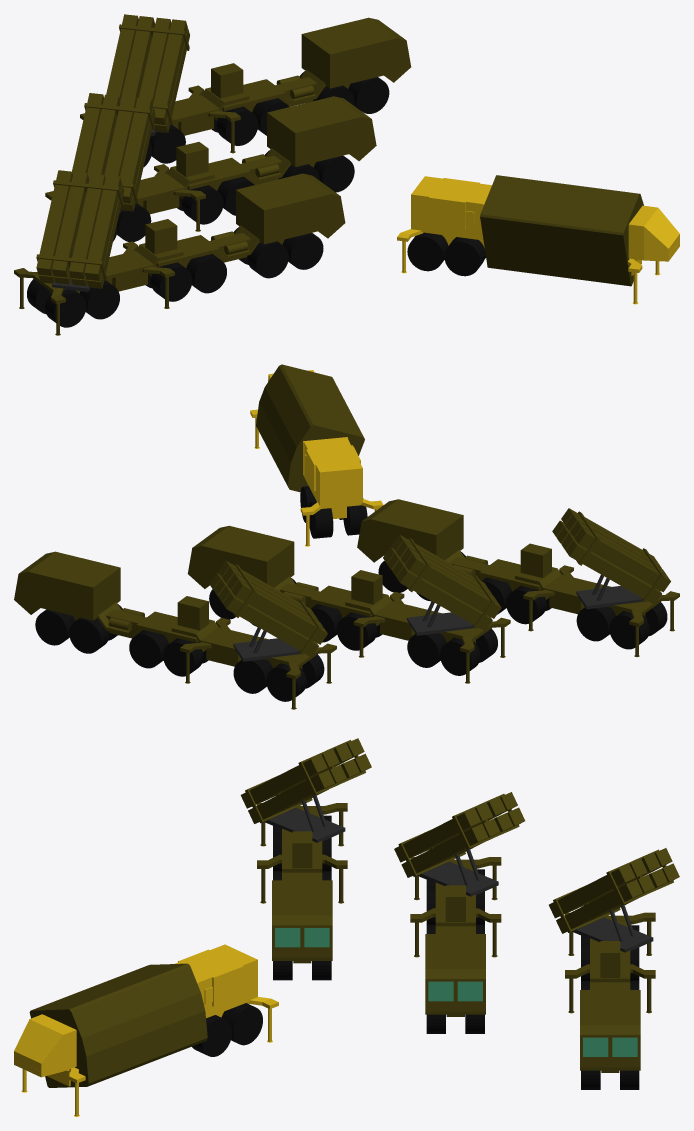
The model's file is Building_THAAD.obj.
3 views of the same model, one above another, from view 1: azimuth 30°, elevation 25°; view 2: azimuth 150°, elevation 25°; view 3: azimuth 270°, elevation 25° (orthographic). The views are drawn at different scales.
Visible parts, largest first — view 1: THAAD; view 2: THAAD; view 3: THAAD.
Part boxes in pixels (x1,y1,x2,y2): THAAD: [14, 14, 679, 335]; THAAD: [14, 364, 679, 709]; THAAD: [14, 738, 679, 1116].
Bounding box in the file's own units: 32.61 × 7.21 × 32.98.
